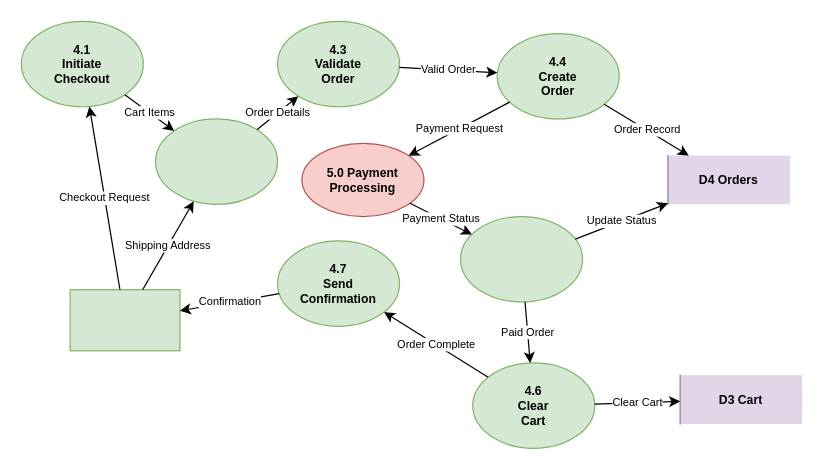
Some shapes in this 824 by 470 pixel diagram are drawn without their labels. The centre of each missing label's shape, as x and y in pixels:
4.2 Collect Shipping Info: (216,161)
4.5 Update Order Status: (521,258)
Registered User: (124,320)
